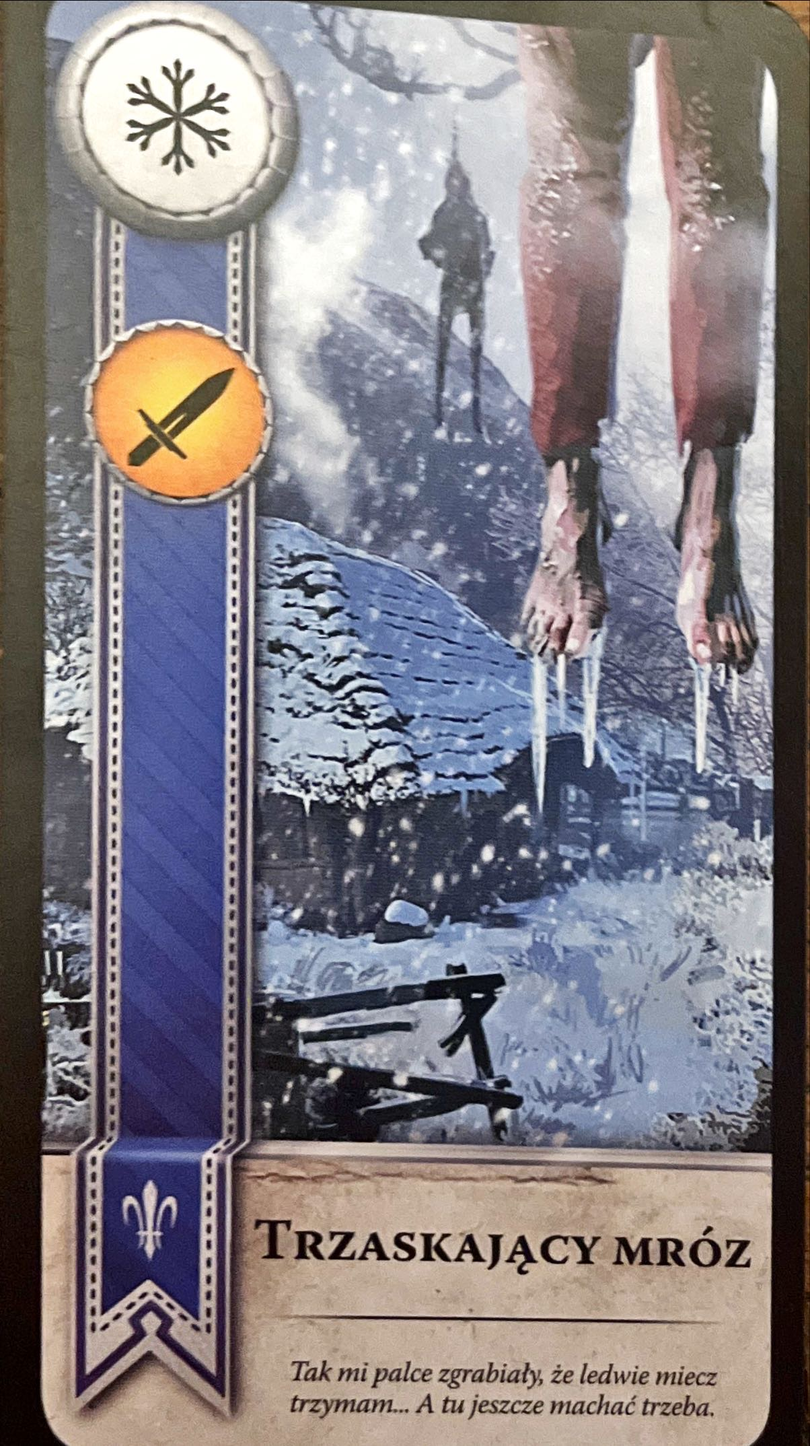miecz: (78, 316, 272, 508)
mroz: (52, 0, 307, 243)
